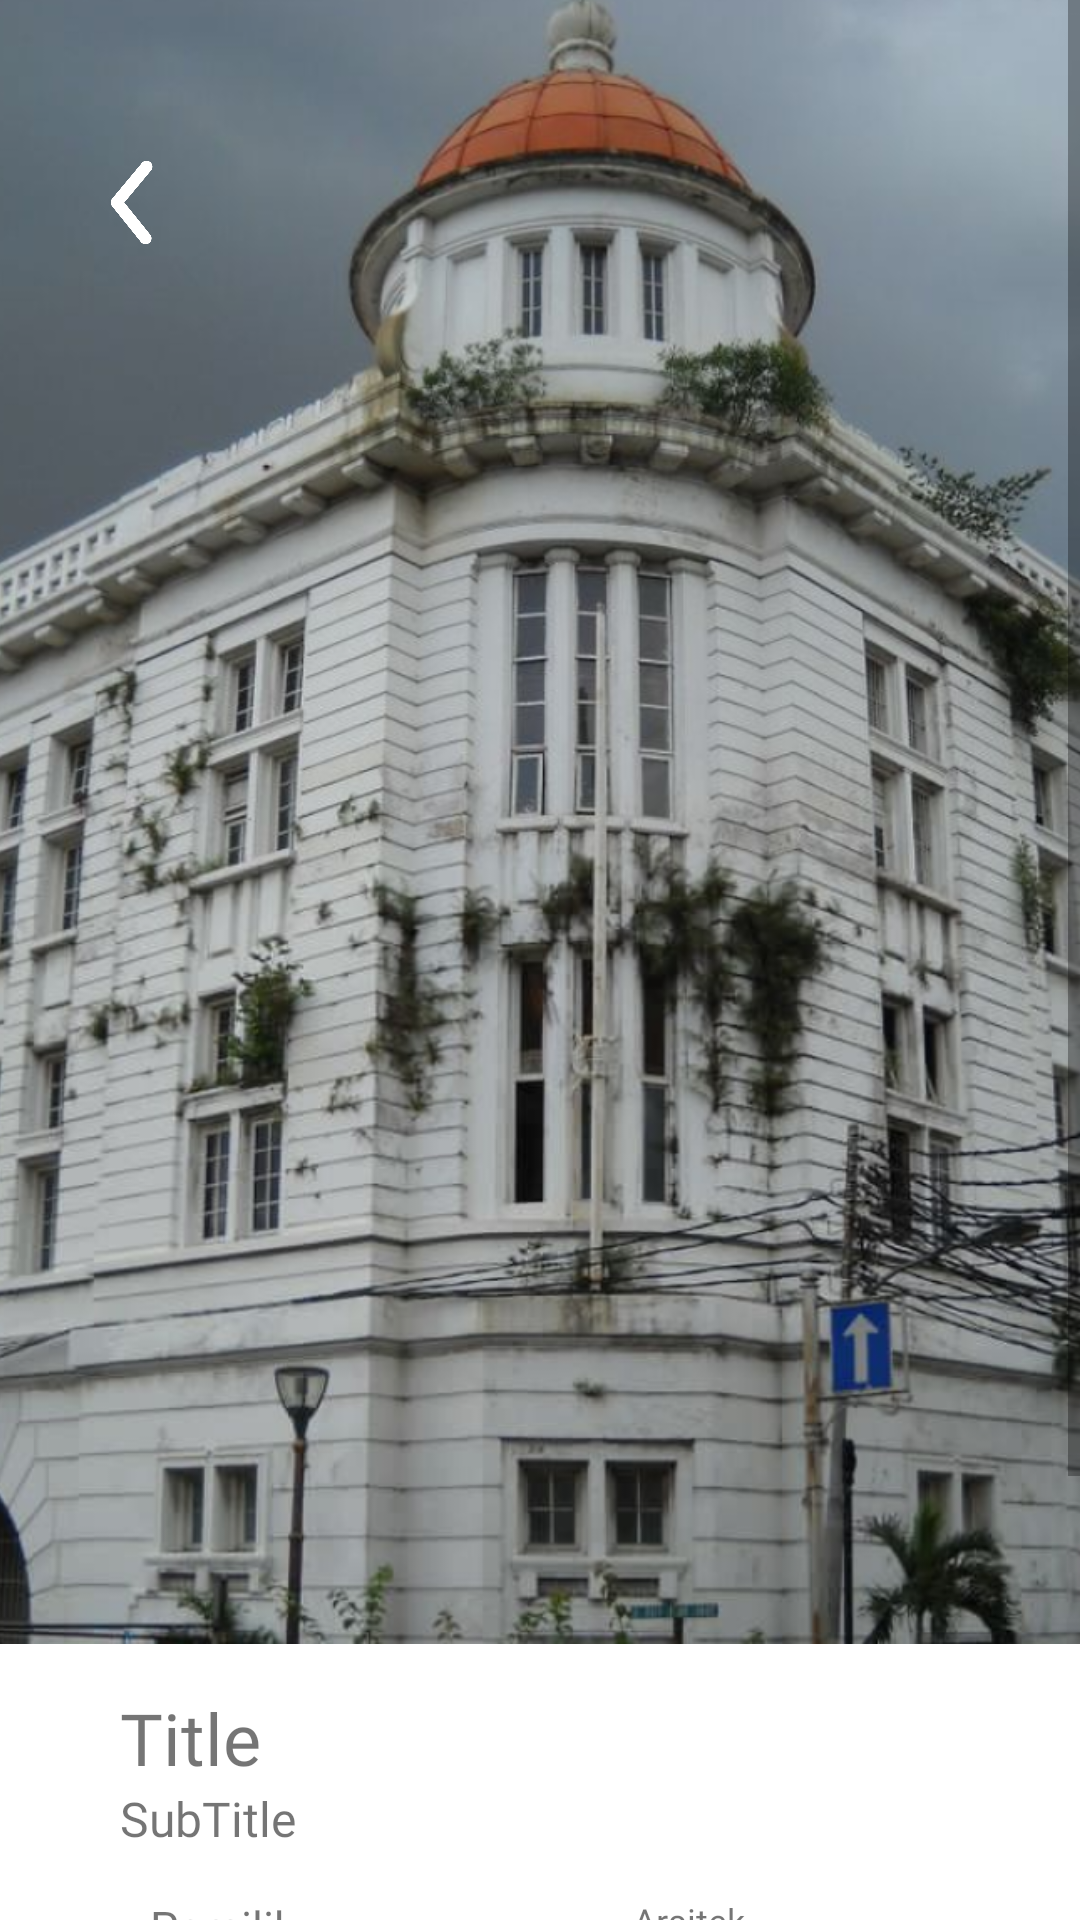

Where to tap for icons on this 1080px×1920px app screen, as [x,y]:
back: [132,202]
